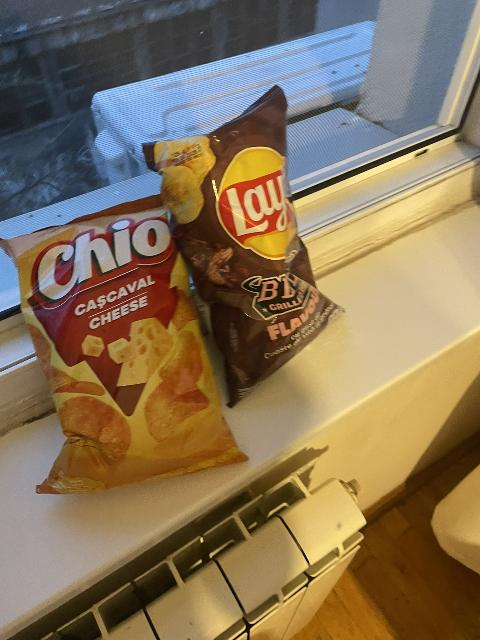Chio Cascaval 125g: (1, 202, 250, 488)
Lays Beef Grilled Ribs 125g: (146, 85, 343, 398)
